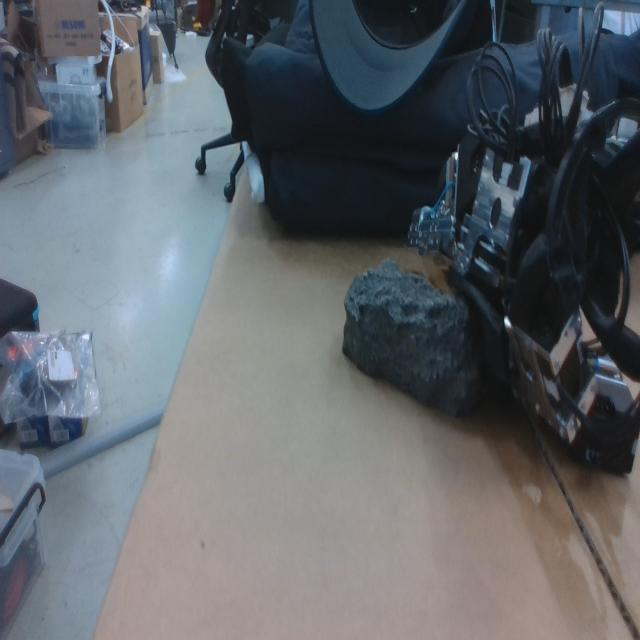stone: (341, 256, 483, 422)
